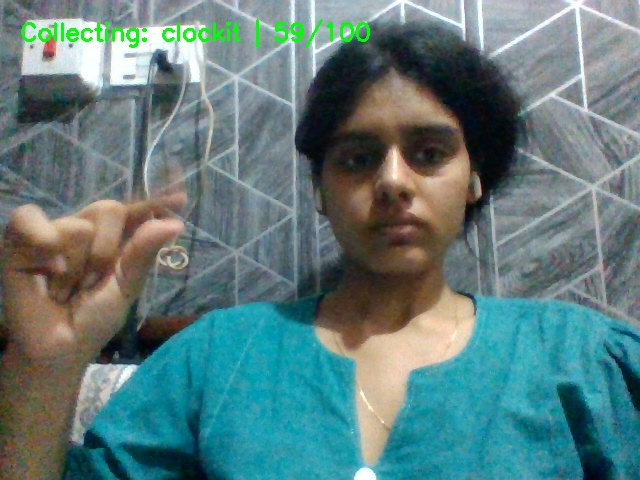clockit: (3, 165, 191, 382)
